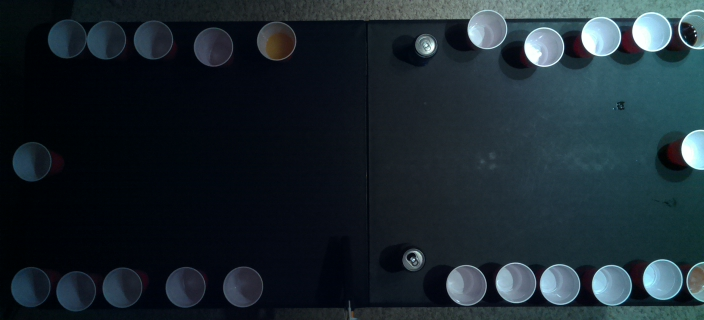active bp cup: (11, 140, 53, 182), (678, 128, 703, 171)
can: (397, 245, 425, 273), (412, 30, 437, 58)
drink cup: (254, 20, 298, 62), (676, 8, 703, 52), (686, 260, 703, 303)
inactive bp cup: (99, 265, 143, 309), (577, 14, 622, 57), (163, 265, 207, 308), (493, 262, 537, 305), (521, 26, 566, 68), (539, 260, 581, 304), (9, 264, 51, 308), (442, 265, 488, 305), (54, 270, 97, 312), (221, 266, 264, 308), (590, 263, 632, 306), (641, 257, 684, 299), (132, 18, 174, 60), (630, 11, 672, 52), (466, 9, 508, 50), (84, 19, 127, 59), (190, 27, 234, 65), (46, 18, 86, 59)
